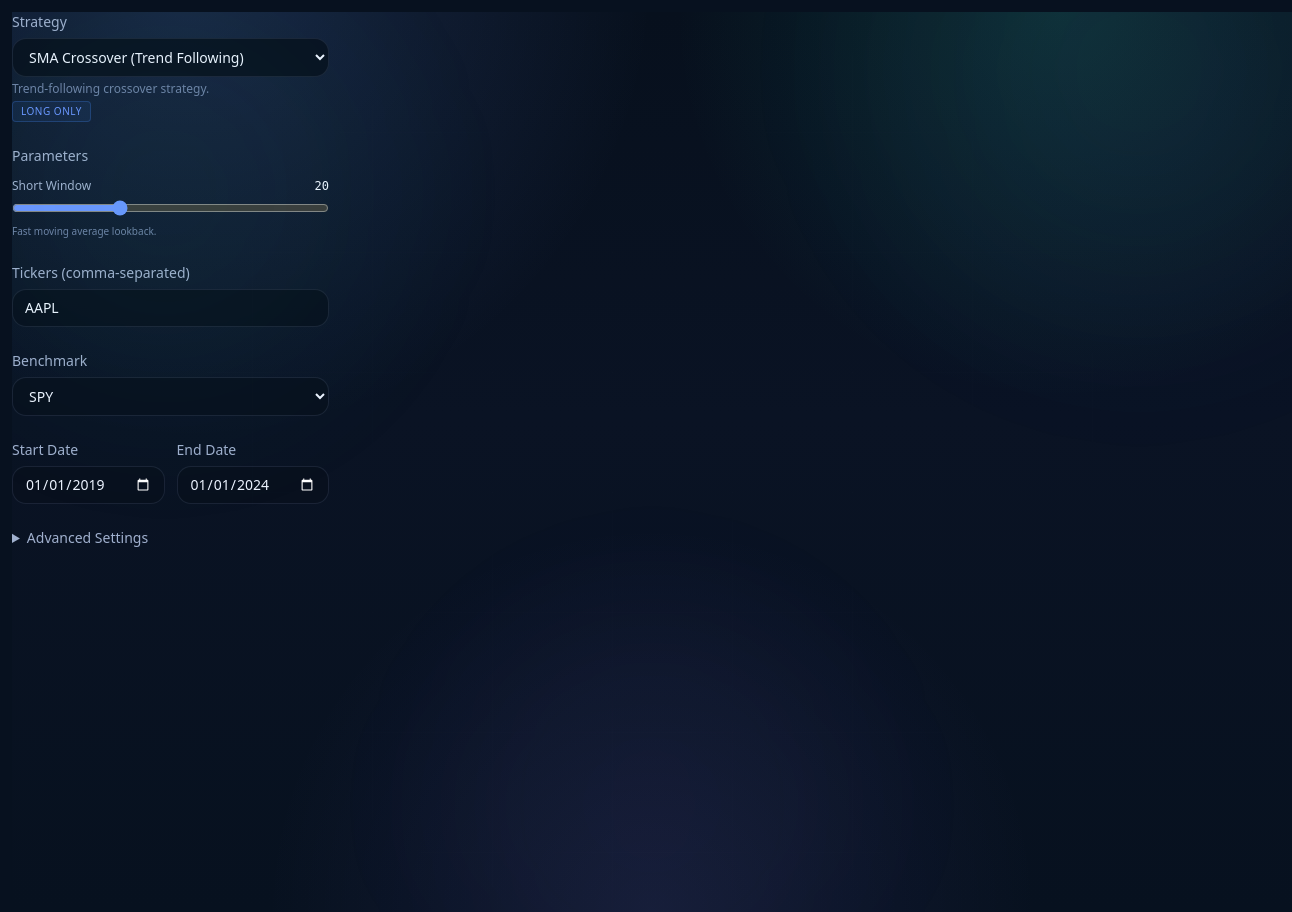
Test: StrategyForm › loads strategy defaults and enables shorting for short-required strategies
This screenshot has width=1292, height=912.
Select "Market Neutral Momentum (Momentum)" in the dropdown labelled "Strategy" at (170, 58), box [12,38,329,77]
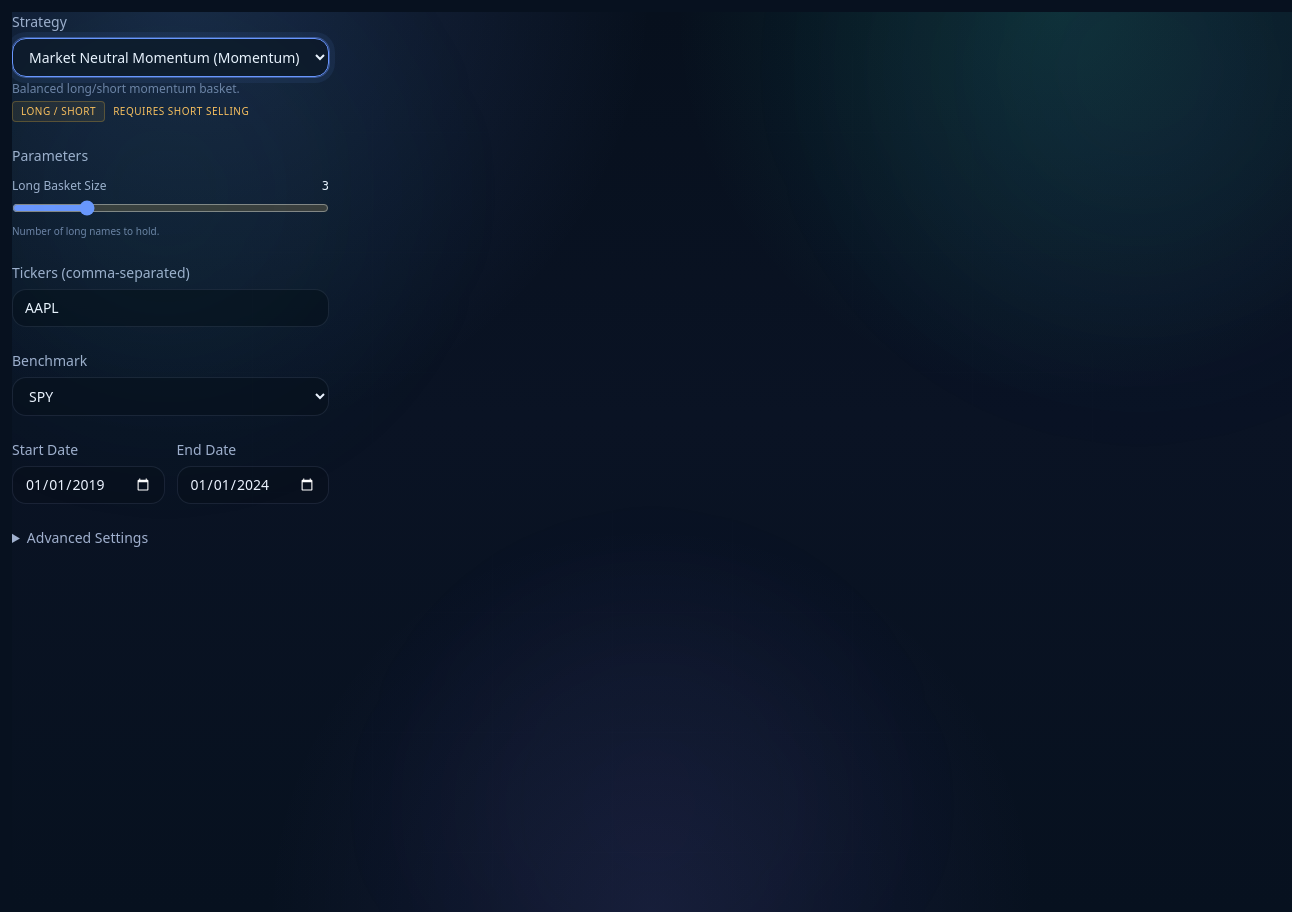
Result: the text "Balanced long/short momentum basket." is shown at [12,80,240,97]
Result: the text "Requires short selling" is shown at [113,104,249,119]
